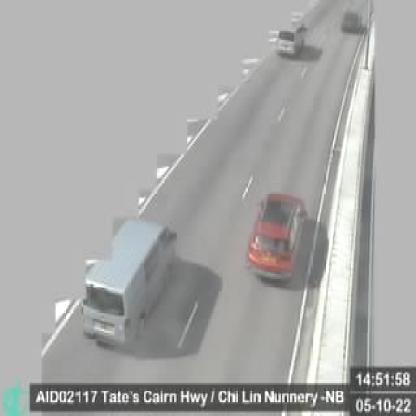Car: (82, 217, 175, 345), (246, 192, 306, 279), (276, 19, 306, 56), (340, 9, 362, 31)
